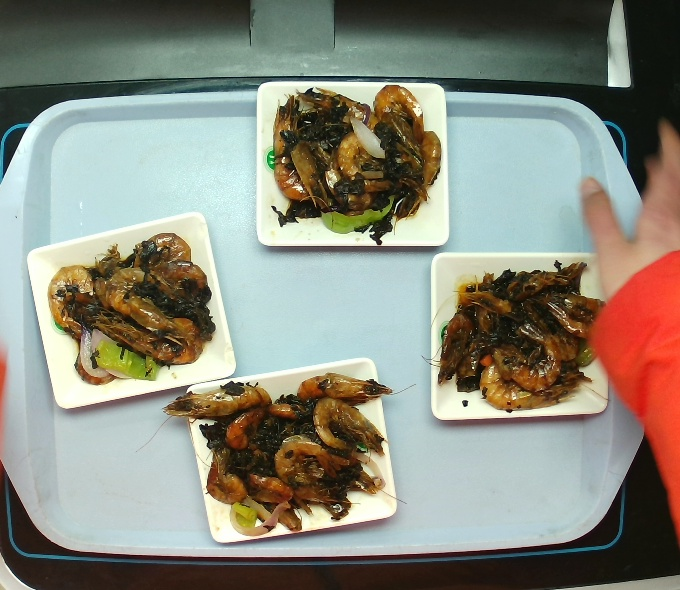wcq-GanCaiXia: (187, 373, 388, 527), (431, 254, 608, 414), (268, 82, 436, 245), (47, 229, 214, 389)
